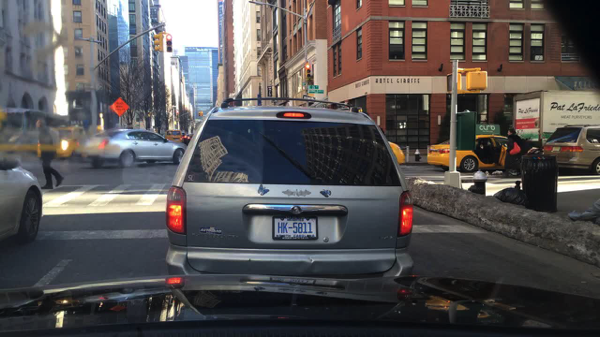car: (166, 97, 417, 276), (426, 134, 543, 176), (82, 127, 187, 169), (0, 108, 74, 162), (1, 155, 43, 247), (543, 124, 599, 175), (37, 125, 89, 163), (387, 141, 406, 165), (164, 129, 184, 144), (183, 132, 191, 147), (301, 82, 308, 86)
person: (34, 115, 64, 191), (500, 127, 526, 176)
traffic light: (465, 71, 487, 90), (446, 72, 461, 93), (153, 33, 161, 52), (166, 34, 173, 53), (304, 63, 312, 79), (198, 111, 203, 117)
traffic sign: (110, 97, 129, 117), (307, 90, 324, 95), (308, 84, 321, 89)
truck: (510, 90, 599, 148)
